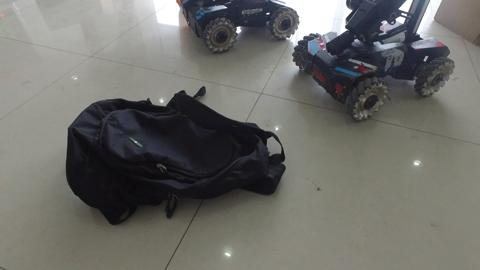bag: (63, 96, 286, 208)
chariot: (291, 1, 456, 122), (178, 2, 297, 47)
